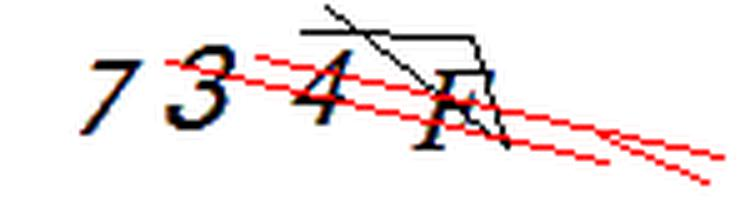3: (158, 38, 245, 136)
4: (287, 45, 358, 134)
7: (73, 50, 150, 142)
F: (405, 60, 503, 159)
